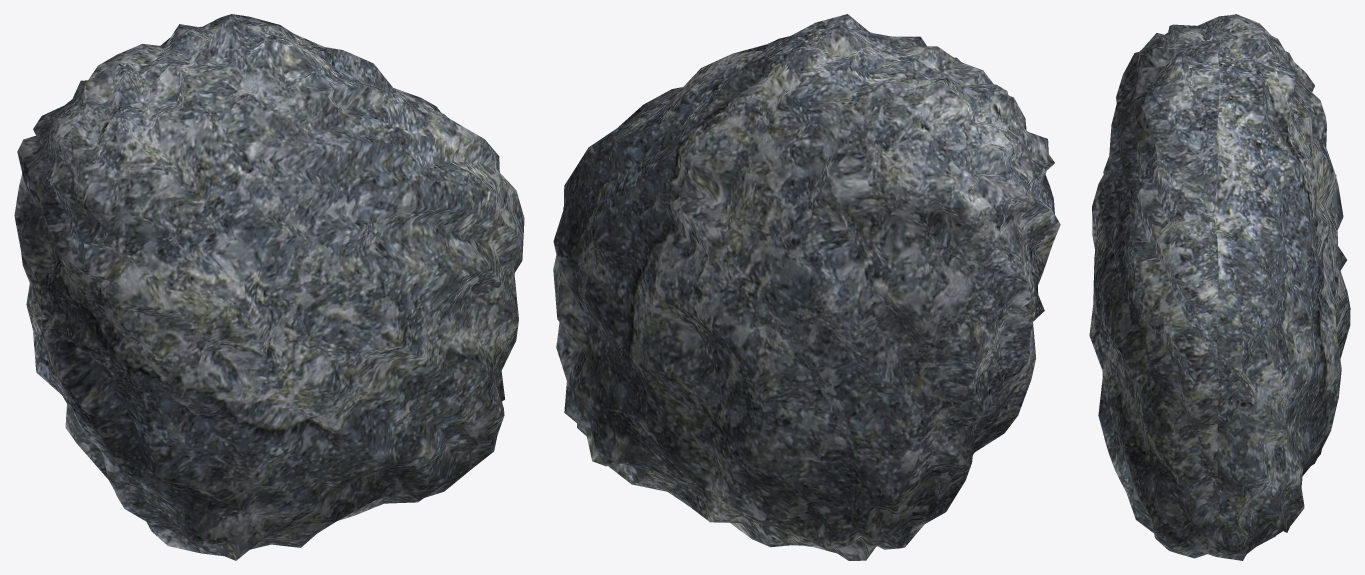
Rendered from Peridotite.fbx.
3 views of the same model, side by side, from view 1: azimuth 30°, elevation 25°; view 2: azimuth 150°, elevation 25°; view 3: azimuth 270°, elevation 25° (orthographic). The views are drawn at different scales.
Parts seen in each view (by area): view 1: Peridotite; view 2: Peridotite; view 3: Peridotite.
Boxes of the visible parts, <box> form: Peridotite: <box>14,14,524,560</box>; Peridotite: <box>553,14,1060,560</box>; Peridotite: <box>1089,14,1350,560</box>.
Bounding box in the file's own units: 380 × 399 × 205.
